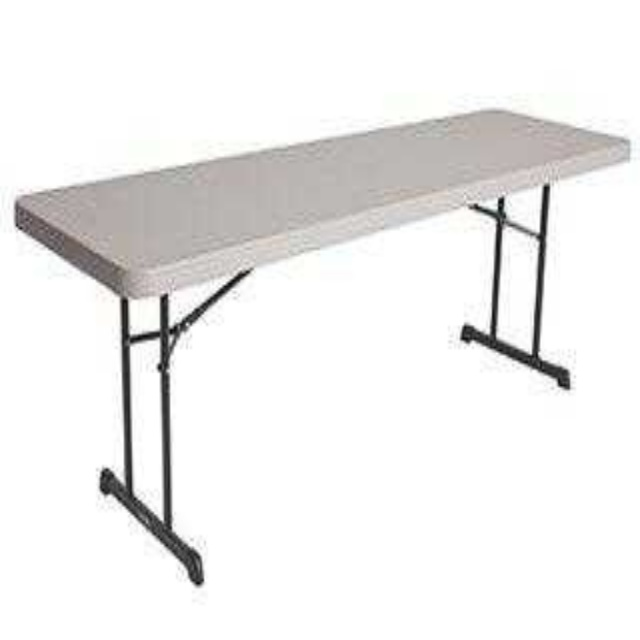obstacle: (14, 108, 628, 582)
